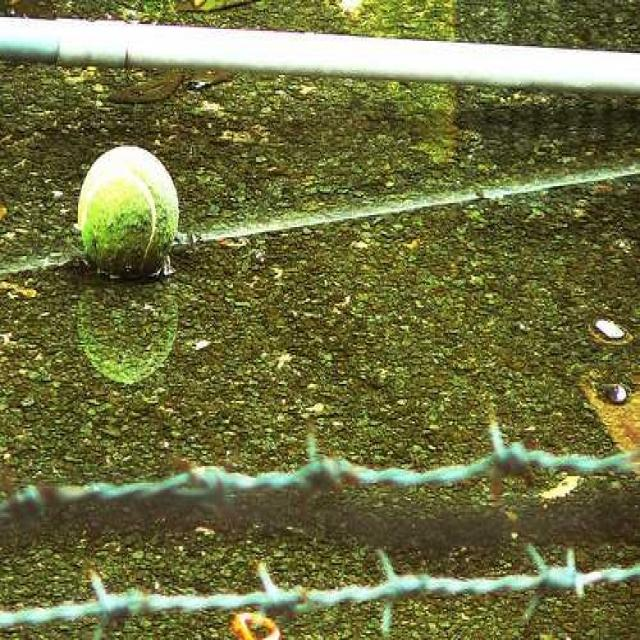Tennis_Ball: (78, 144, 175, 280)
